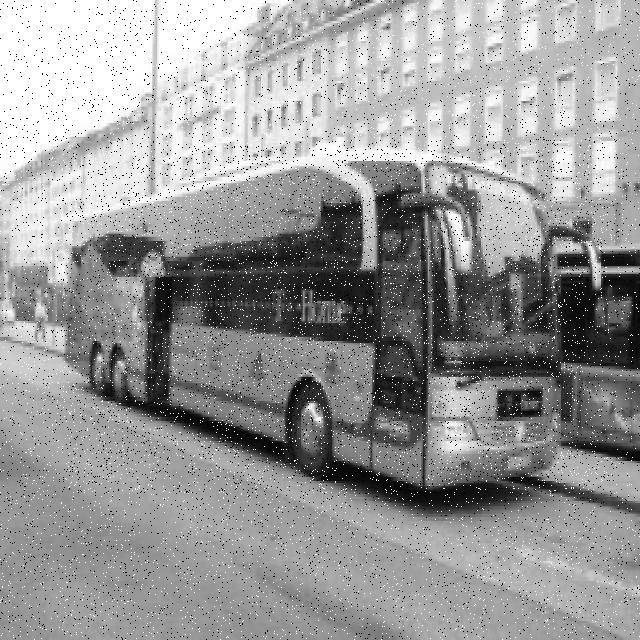Bus: (61, 140, 605, 494)
